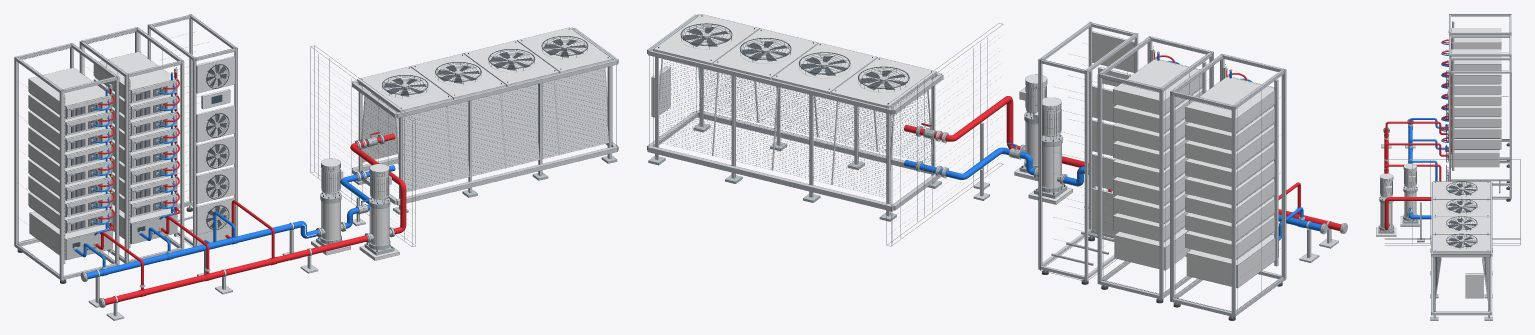
The model's file is chilling.glb.
3 views of the same model, side by side, from view 1: azimuth 30°, elevation 25°; view 2: azimuth 150°, elevation 25°; view 3: azimuth 270°, elevation 25° (orthographic). The views are drawn at different scales.
Parts seen in each view (by area): view 1: 06_Dry_Cooler.front_coil_skin.technical_skin, 06_Dry_Cooler.front_coil_fins, 06_Dry_Cooler.FanDeck_1.body.technical_skin, 06_Dry_Cooler.FanDeck_4.body.technical_skin, 06_Dry_Cooler.FanDeck_2.body.technical_skin, 06_Dry_Cooler.FanDeck_3.body.technical_skin, 01_Rack_01.Server_08.chassis.body.technical_skin, 03_Facility_Headers.red_main_header.body.technical_skin, 01_Rack_02.Server_08.chassis.body.technical_skin, 03_Facility_Headers.blue_main_header.body.technical_skin, 06_Dry_Cooler.lower_beam.body, 06_Dry_Cooler.rear_coil_skin.technical_skin (+33 smaller); view 2: 06_Dry_Cooler.rear_coil_fins, 06_Dry_Cooler.front_coil_fins, 01_Rack_01.Server_08.chassis.body.technical_skin, 06_Dry_Cooler.FanDeck_1.body.technical_skin, 01_Rack_02.Server_08.chassis.body.technical_skin, 06_Dry_Cooler.FanDeck_2.body.technical_skin, 06_Dry_Cooler.FanDeck_3.body.technical_skin, 06_Dry_Cooler.FanDeck_4.body.technical_skin, 01_Rack_01.CDU_enclosure.body, 01_Rack_02.CDU_enclosure.body, 06_Dry_Cooler.lower_beam.body.001, 01_Rack_01.Server_07.chassis.body.technical_skin (+39 smaller); view 3: 06_Dry_Cooler.FanDeck_4.body.technical_skin, 01_Rack_02.Server_08.chassis.body.technical_skin, 06_Dry_Cooler.FanDeck_2.body.technical_skin, 01_Rack_01.Server_08.chassis.body.technical_skin, 06_Dry_Cooler.FanDeck_1.body.technical_skin, 06_Dry_Cooler.FanDeck_3.body.technical_skin, 01_Rack_02.CDU_enclosure.body, 01_Rack_02.Server_05.chassis.body.technical_skin, 01_Rack_02.Server_06.chassis.body.technical_skin, 01_Rack_02.Server_07.chassis.body.technical_skin, 06_Dry_Cooler.electrical_service.body, 01_Rack_02.Server_01.chassis.body.technical_skin (+48 smaller).
Part boxes in pixels (x1,y1,x2,y2): 06_Dry_Cooler.front_coil_skin.technical_skin: (397,67,608,191); 06_Dry_Cooler.front_coil_fins: (397,68,608,191); 06_Dry_Cooler.FanDeck_1.body.technical_skin: (357,66,452,112); 06_Dry_Cooler.FanDeck_4.body.technical_skin: (517,27,612,73); 06_Dry_Cooler.FanDeck_2.body.technical_skin: (411,53,505,99); 06_Dry_Cooler.FanDeck_3.body.technical_skin: (464,40,559,86); 01_Rack_01.Server_08.chassis.body.technical_skin: (28,68,110,118); 03_Facility_Headers.red_main_header.body.technical_skin: (104,235,367,305); 01_Rack_02.Server_08.chassis.body.technical_skin: (93,52,174,102); 03_Facility_Headers.blue_main_header.body.technical_skin: (86,221,319,279); 06_Dry_Cooler.lower_beam.body: (396,146,617,205); 06_Dry_Cooler.rear_coil_skin.technical_skin: (362,93,397,162); 06_Dry_Cooler.rear_coil_fins: (658,59,892,197); 06_Dry_Cooler.front_coil_fins: (700,69,931,163); 01_Rack_01.Server_08.chassis.body.technical_skin: (1185,77,1274,132); 06_Dry_Cooler.FanDeck_1.body.technical_skin: (831,57,936,108); 01_Rack_02.Server_08.chassis.body.technical_skin: (1113,59,1202,114); 06_Dry_Cooler.FanDeck_2.body.technical_skin: (771,43,877,93); 06_Dry_Cooler.FanDeck_3.body.technical_skin: (712,28,818,79); 06_Dry_Cooler.FanDeck_4.body.technical_skin: (653,14,758,65); 01_Rack_01.CDU_enclosure.body: (1186,234,1275,287); 01_Rack_02.CDU_enclosure.body: (1114,227,1190,269); 06_Dry_Cooler.lower_beam.body.001: (648,145,893,210); 01_Rack_01.Server_07.chassis.body.technical_skin: (1185,106,1274,150); 06_Dry_Cooler.FanDeck_4.body.technical_skin: (1432,234,1490,253); 01_Rack_02.Server_08.chassis.body.technical_skin: (1451,49,1501,71); 06_Dry_Cooler.FanDeck_2.body.technical_skin: (1433,199,1490,216); 01_Rack_01.Server_08.chassis.body.technical_skin: (1451,28,1501,49); 06_Dry_Cooler.FanDeck_1.body.technical_skin: (1433,182,1490,198); 06_Dry_Cooler.FanDeck_3.body.technical_skin: (1433,217,1490,233); 01_Rack_02.CDU_enclosure.body: (1451,150,1499,167); 01_Rack_02.Server_05.chassis.body.technical_skin: (1454,94,1501,105); 01_Rack_02.Server_06.chassis.body.technical_skin: (1454,83,1501,94); 01_Rack_02.Server_07.chassis.body.technical_skin: (1454,73,1501,83); 06_Dry_Cooler.electrical_service.body: (1465,273,1483,298); 01_Rack_02.Server_01.chassis.body.technical_skin: (1454,138,1501,149).
Size of the model in its own units: 6.8 by 2.28 by 2.28.
